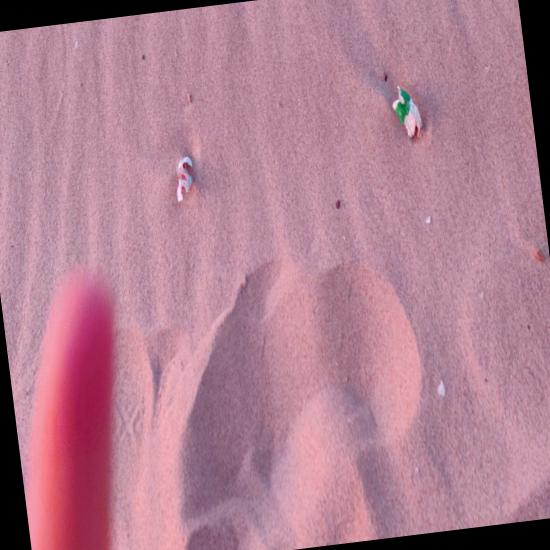Other plastic bottle: (257, 462, 550, 546), (75, 87, 133, 267), (127, 184, 187, 275), (390, 109, 420, 175), (24, 490, 45, 532)
